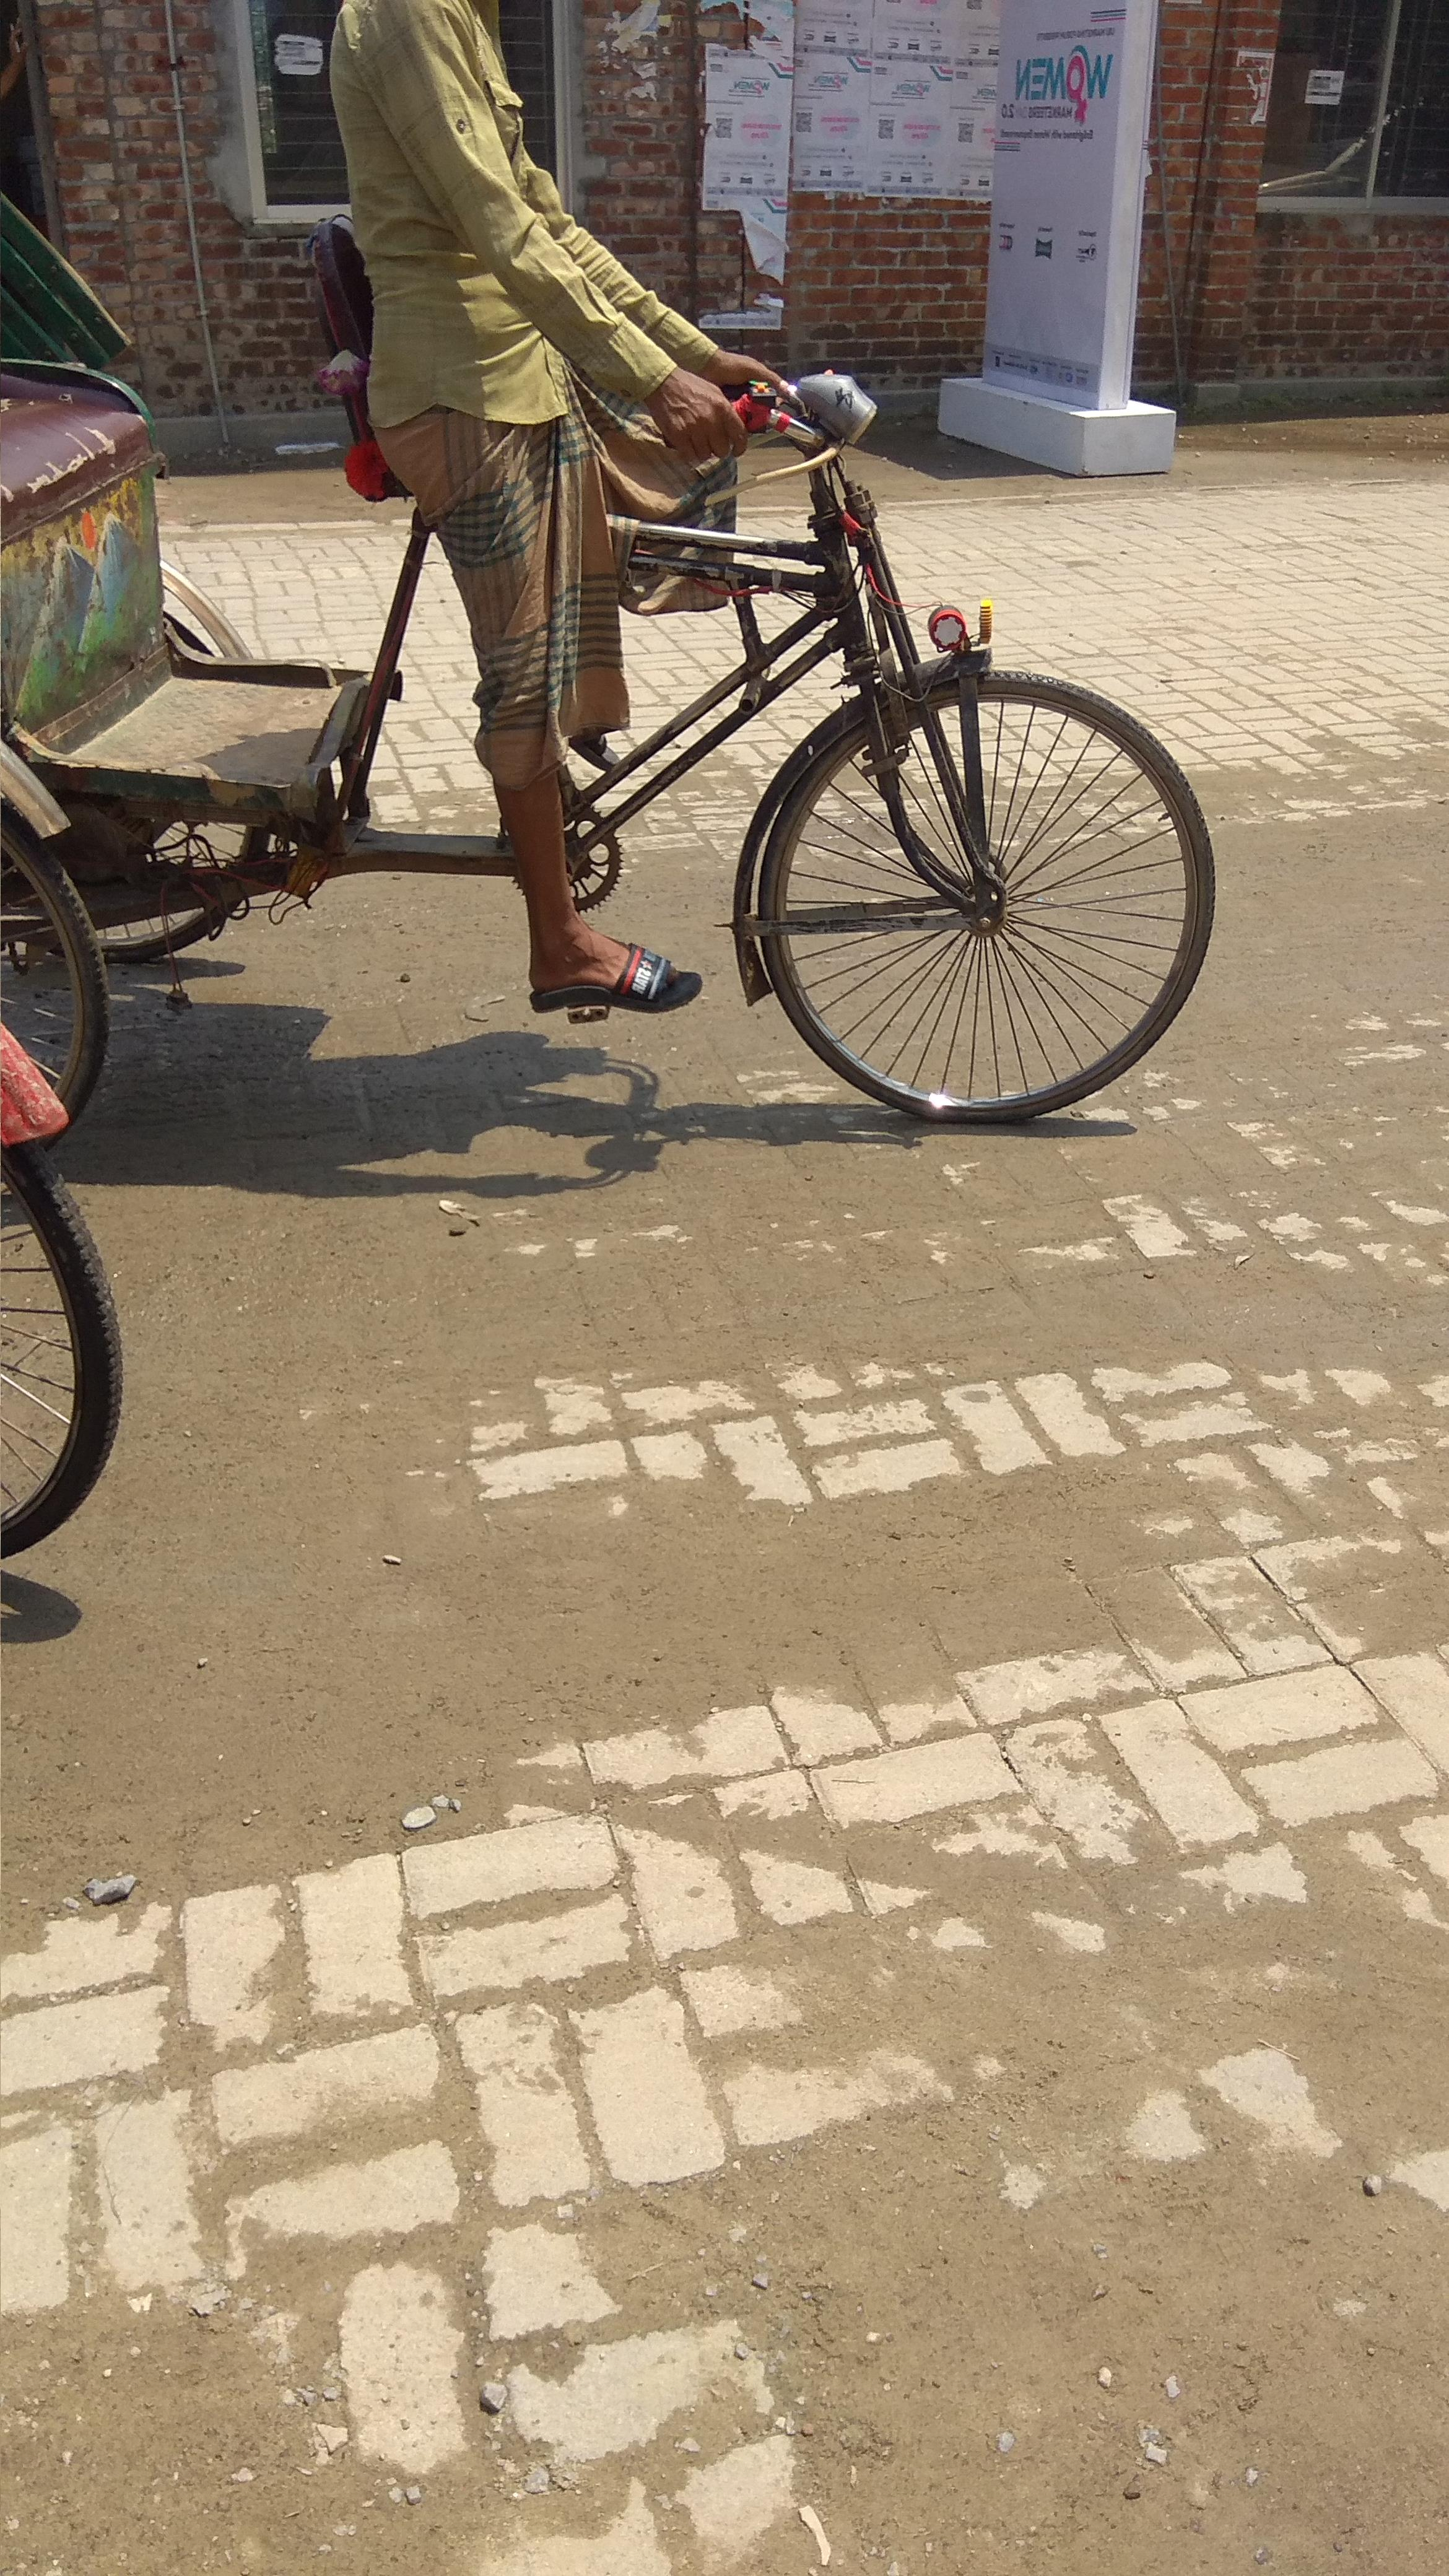Rickshaw: (23, 21, 1155, 1173)
